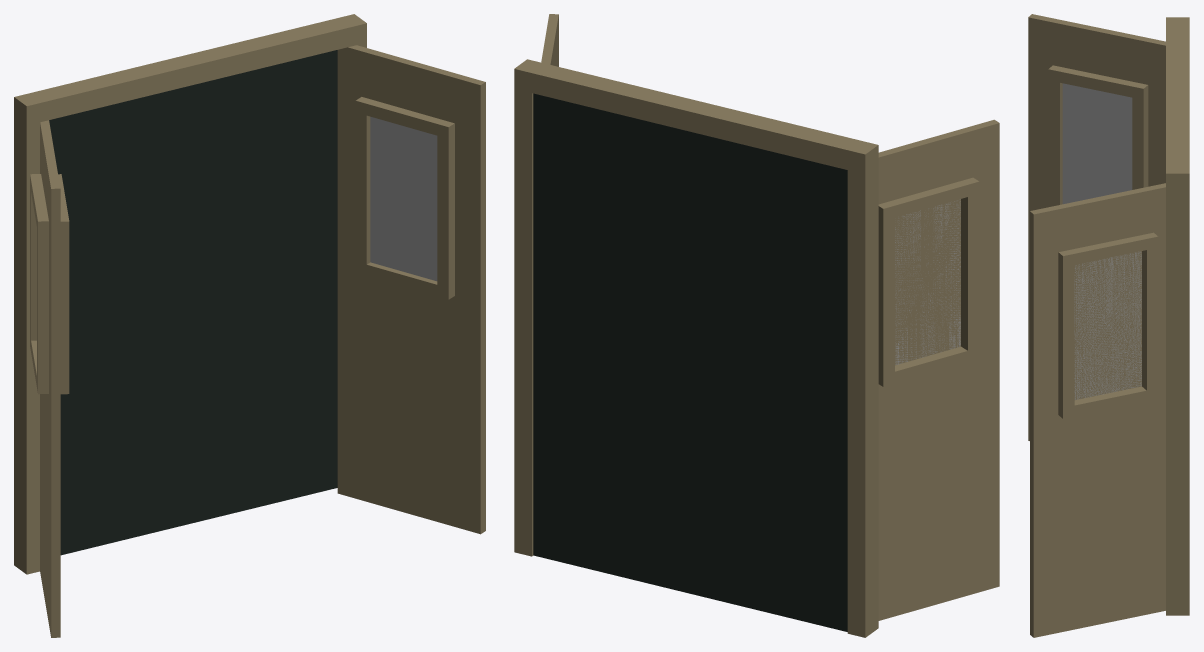
Rendered from obj_door_y_open.fbx.
The picture shows the model from 3 angles, left to right: view 1: azimuth 30°, elevation 25°; view 2: azimuth 150°, elevation 25°; view 3: azimuth 270°, elevation 25°; orthographic projection. The views are drawn at different scales.
Parts seen in each view (by area): view 1: obj_door_y_open1; view 2: obj_door_y_open1; view 3: obj_door_y_open1.
Boxes of the visible parts, bbox=[...] form: obj_door_y_open1: bbox=[14, 14, 485, 637]; obj_door_y_open1: bbox=[514, 14, 999, 637]; obj_door_y_open1: bbox=[1028, 14, 1189, 637].
Size of the model in its own units: 2.03 by 2.09 by 0.6919.
Materials: 2 (1 with a texture image).
